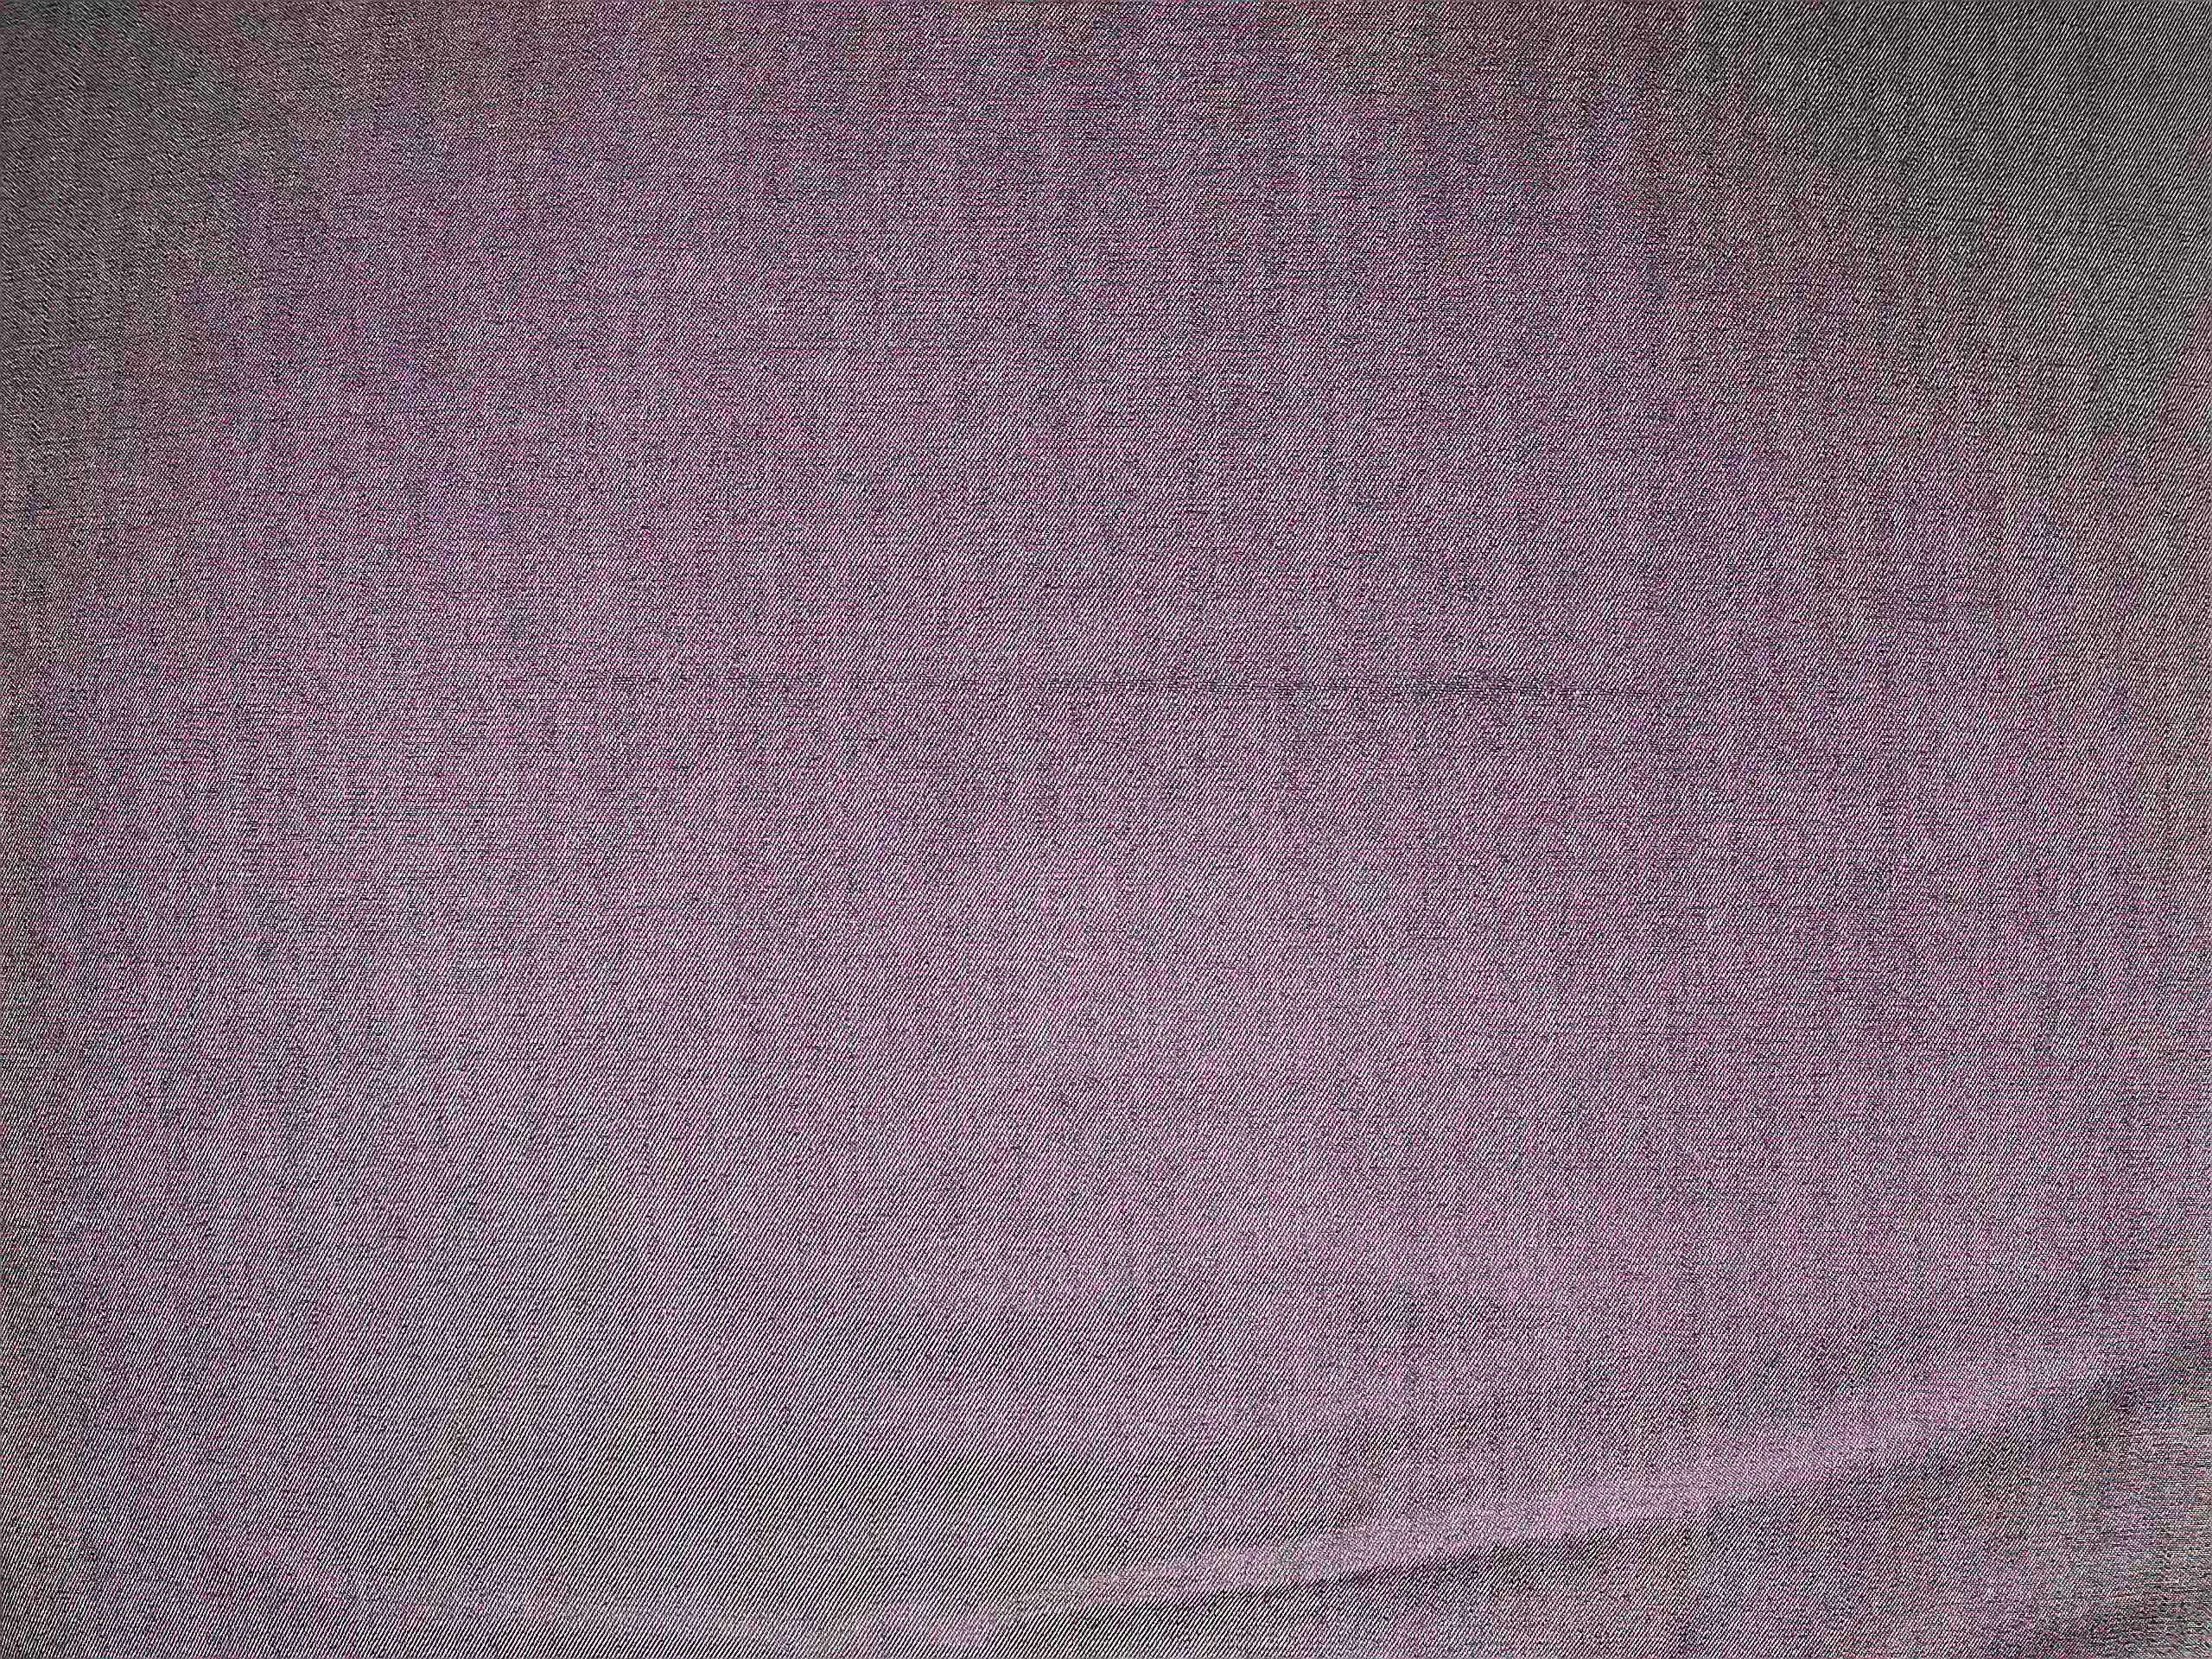thin-spinning: (580, 631, 1749, 732)
